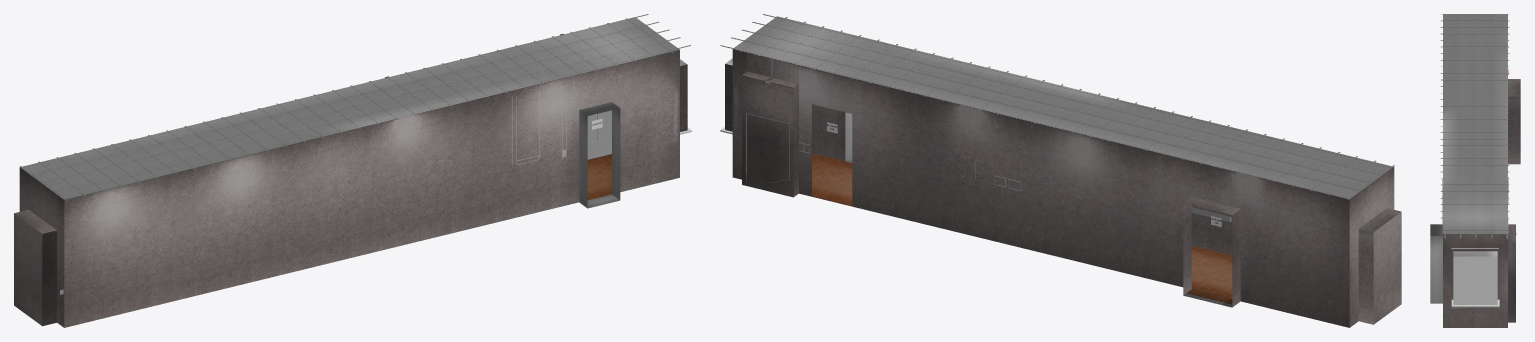
File: koridor.fbx
3 renders of one model, left to right at view 1: azimuth 30°, elevation 25°; view 2: azimuth 150°, elevation 25°; view 3: azimuth 270°, elevation 25°, orthographic. The views are drawn at different scales.
Visible parts, largest first — view 1: koridor, e_shkaf; view 2: koridor; view 3: koridor, plastic001.
Part boxes in pixels (left/top/right/bottom): koridor: left=14, top=14, right=691, bottom=327; e_shkaf: left=587, top=110, right=611, bottom=159; koridor: left=720, top=14, right=1401, bottom=327; koridor: left=1430, top=14, right=1520, bottom=327; plastic001: left=1442, top=144, right=1516, bottom=234.
Bounding box in the file's own units: 14.79 × 2.81 × 2.43.
